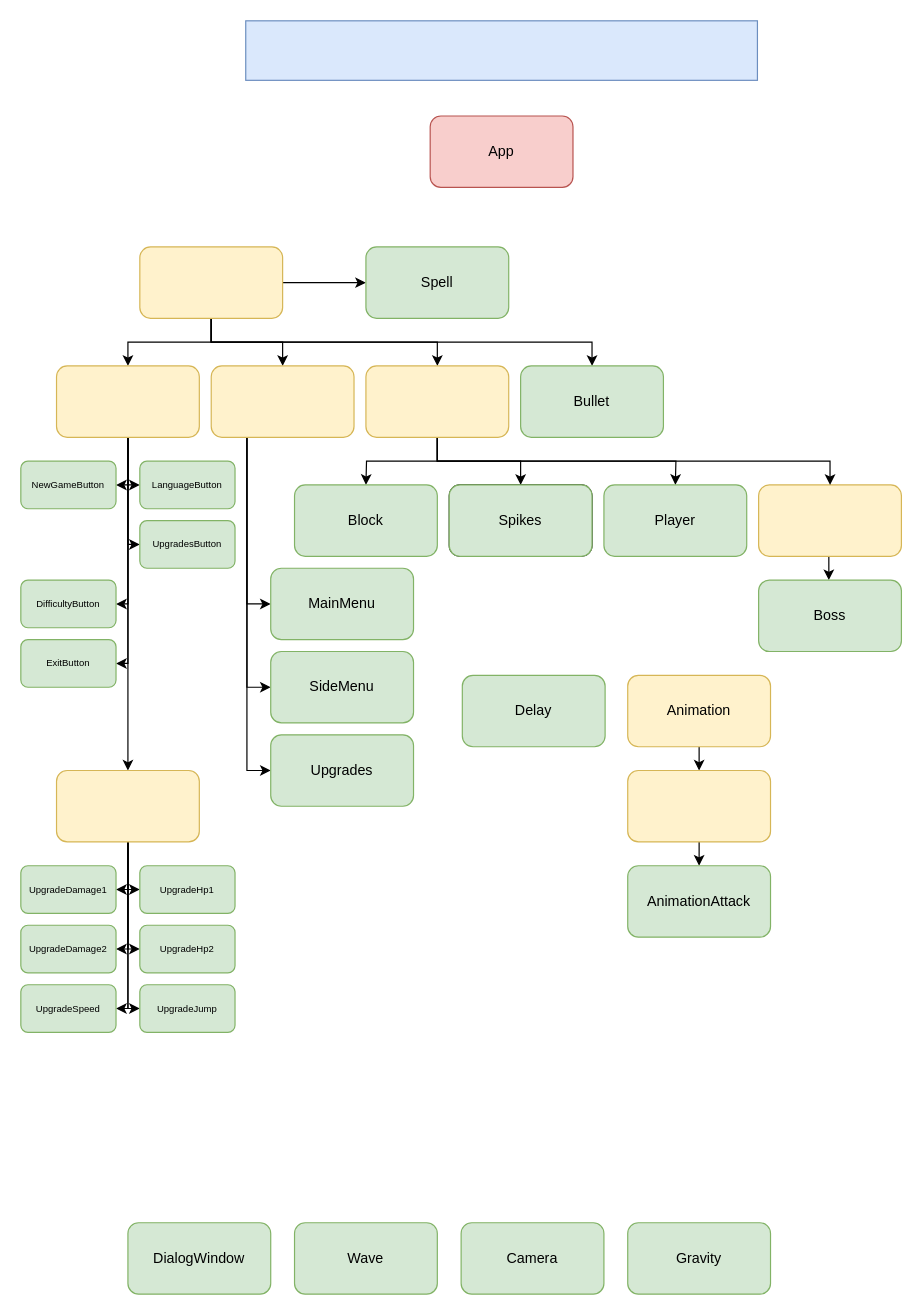
Image size: 922x1315. Some labels were removed from this diagram. The shapes that lost their labels are listed below. From the top down, each one's centre as x and y in pixels, then its label:
At pixel 501 50: "Карта классов".
At pixel 211 282: "Sprite".
At pixel 127 401: "Button".
At pixel 282 401: "Menu".
At pixel 437 401: "CollideObject".
At pixel 829 520: "Enemy".
At pixel 127 805: "UpgradeButton".
At pixel 699 805: "AnimationTemp".
